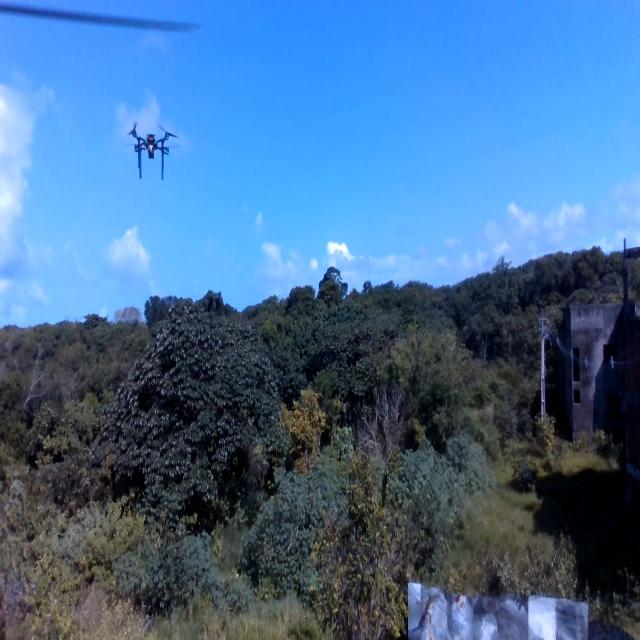-uav-: (118, 102, 189, 194)
